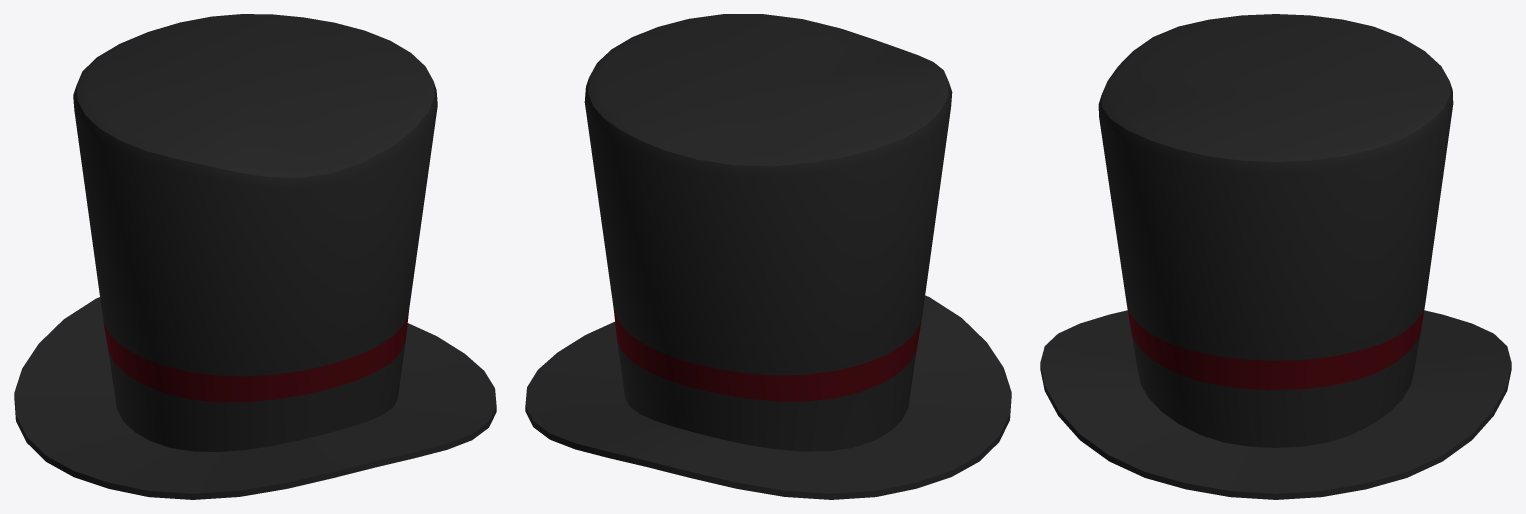
Rendered from V_Cesar02_Cartola.fbx.
The picture shows the model from 3 angles, left to right: view 1: azimuth 30°, elevation 25°; view 2: azimuth 150°, elevation 25°; view 3: azimuth 270°, elevation 25°; orthographic projection. The views are drawn at different scales.
Visible parts, largest first — view 1: Circle; view 2: Circle; view 3: Circle.
Part boxes in pixels (x1=…): Circle: x1=14, y1=14, x2=496, y2=499; Circle: x1=525, y1=14, x2=1011, y2=499; Circle: x1=1040, y1=14, x2=1511, y2=499.
Bounding box in the file's own units: 200 × 148 × 200.
